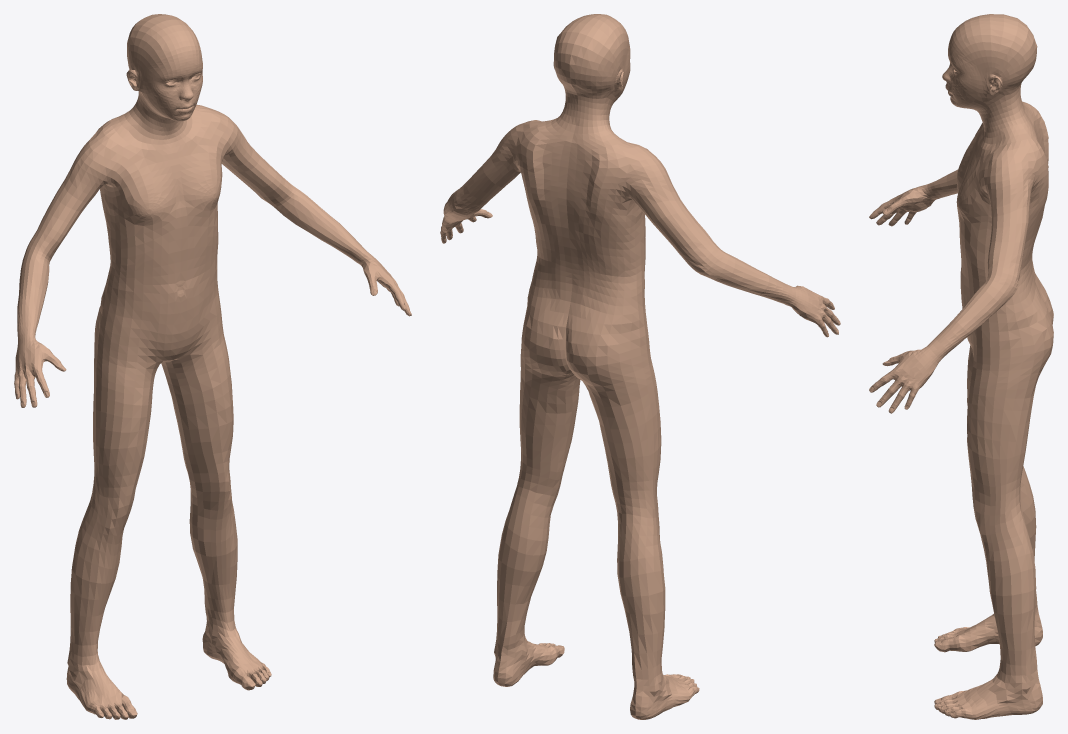
The model's file is peds_nurse_kevin.anny_base.obj.
3 views of the same model, side by side, from view 1: azimuth 30°, elevation 25°; view 2: azimuth 150°, elevation 25°; view 3: azimuth 270°, elevation 25° (orthographic).
Bounding box in the file's own units: 1.07 × 1.76 × 0.4448.
